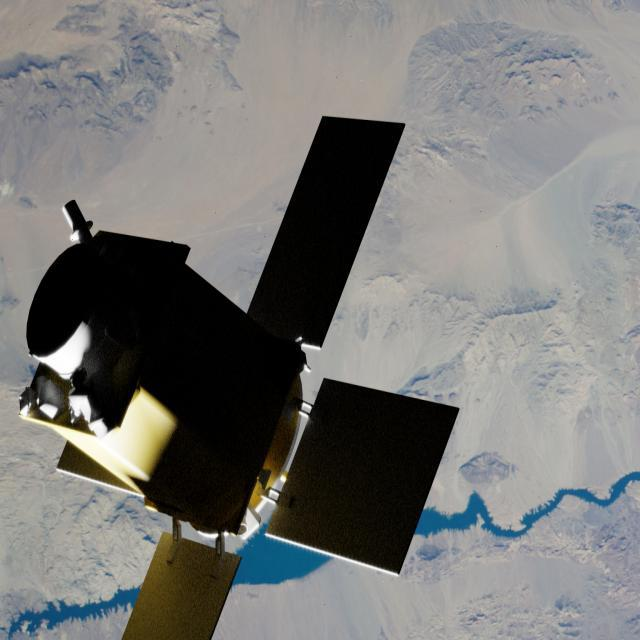satellite: (0, 57, 463, 640)
